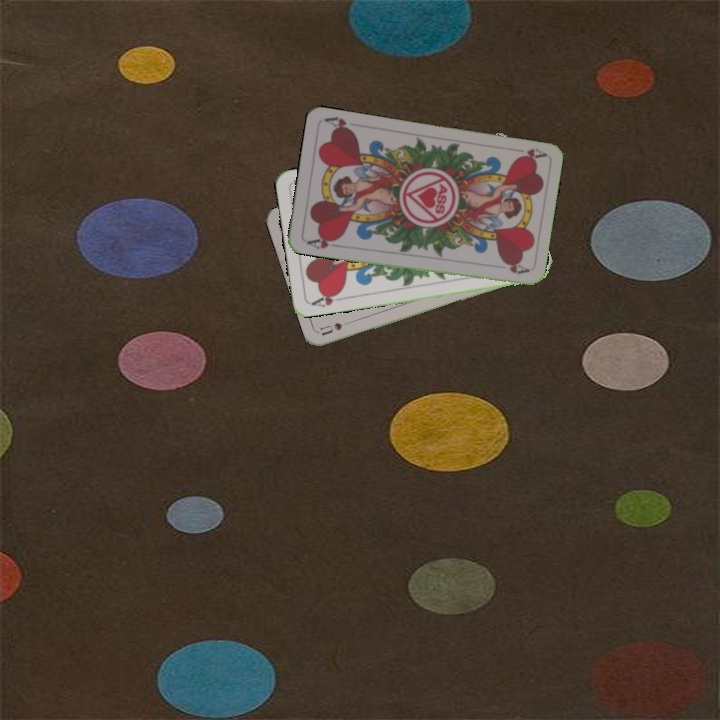HA: (307, 287, 347, 310), (303, 232, 342, 252), (507, 144, 548, 163)
SU: (317, 319, 345, 338)
